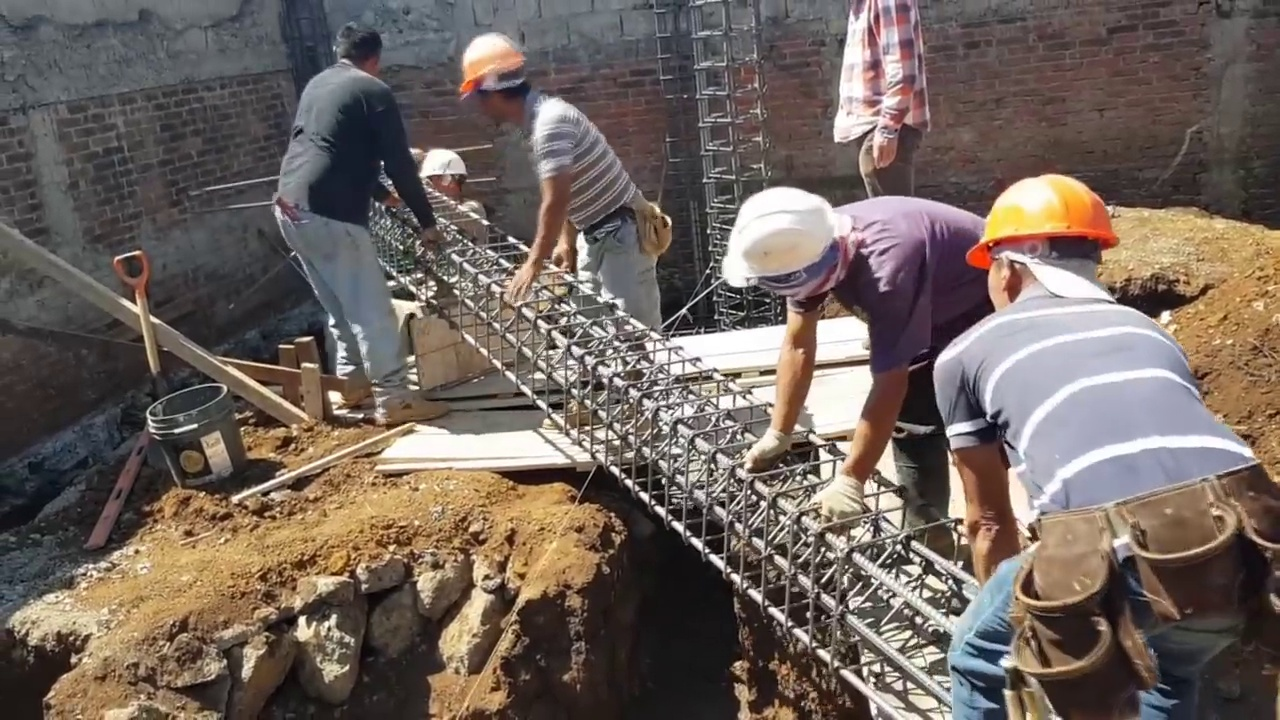helmet: (969, 171, 1134, 264), (723, 184, 843, 287), (454, 33, 530, 101), (417, 143, 470, 184)
helmet-off: (338, 19, 381, 74)
helmet-on: (970, 177, 1130, 318), (726, 176, 862, 304), (452, 33, 529, 136), (413, 145, 482, 219)
person: (910, 174, 1272, 714), (726, 179, 1010, 552), (452, 26, 670, 434), (283, 9, 434, 428), (832, 5, 928, 216)
